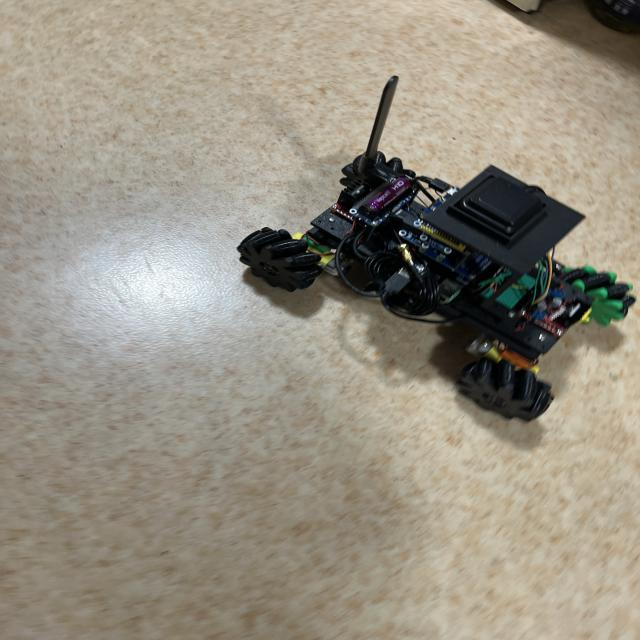robot: (238, 76, 635, 421)
